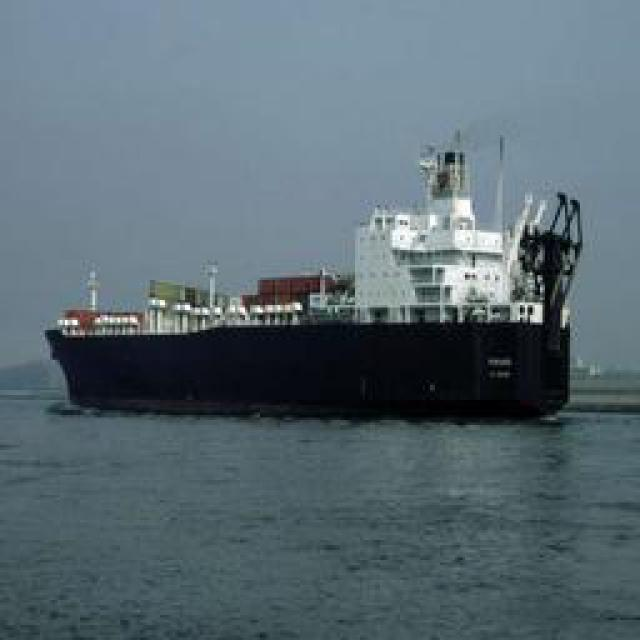Ship: (48, 122, 586, 410)
